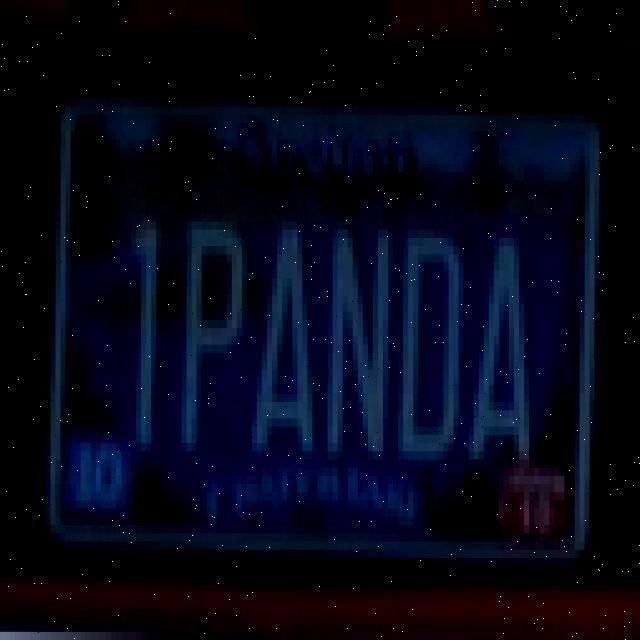LicensePlate: (27, 53, 598, 606)
